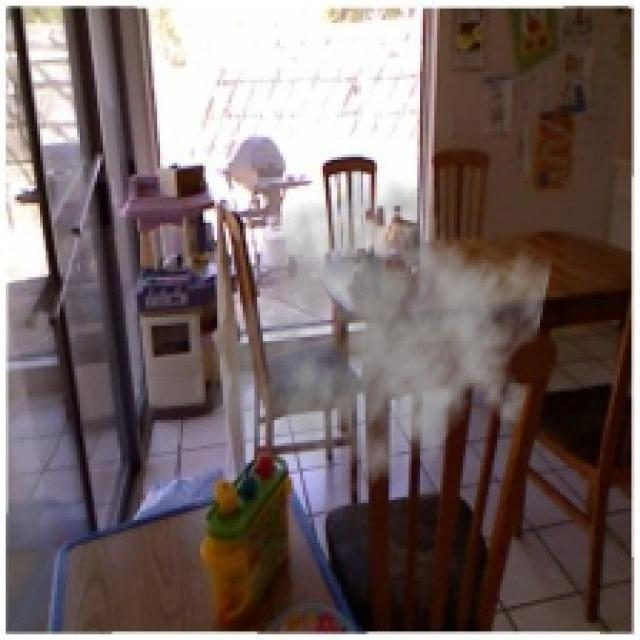smoke: (206, 163, 554, 520)
